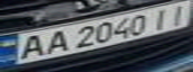0: (127, 11, 154, 36), (93, 19, 118, 44)
2: (72, 22, 96, 50)
4: (112, 16, 136, 40)
A: (9, 33, 51, 61), (39, 27, 72, 55)
I: (160, 0, 193, 27), (145, 5, 178, 30)
